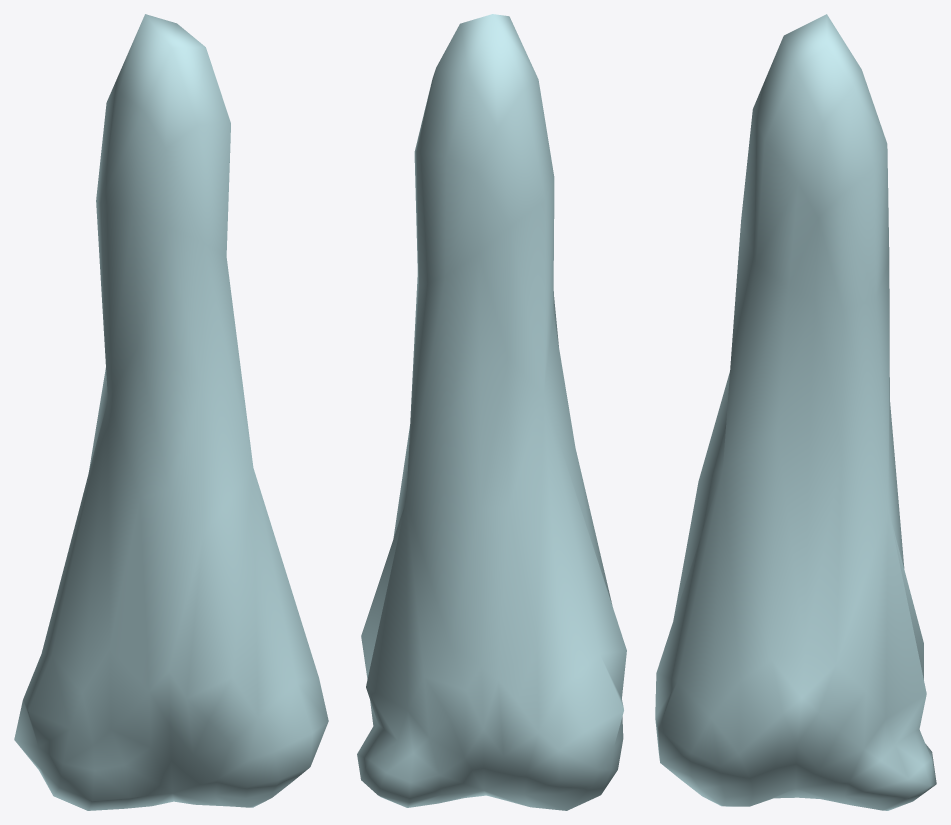
File: blender env assets small ice spike 3.fbx
3 renders of one model, left to right at view 1: azimuth 30°, elevation 25°; view 2: azimuth 150°, elevation 25°; view 3: azimuth 270°, elevation 25°, orthographic.
Parts seen in each view (by area): view 1: rock.037; view 2: rock.037; view 3: rock.037.
Boxes of the visible parts, x1,y1,x2,y2 form: rock.037: (14, 14, 328, 810); rock.037: (357, 14, 626, 810); rock.037: (655, 14, 936, 810).
Size of the model in its own units: 62.02 by 182 by 60.16.
